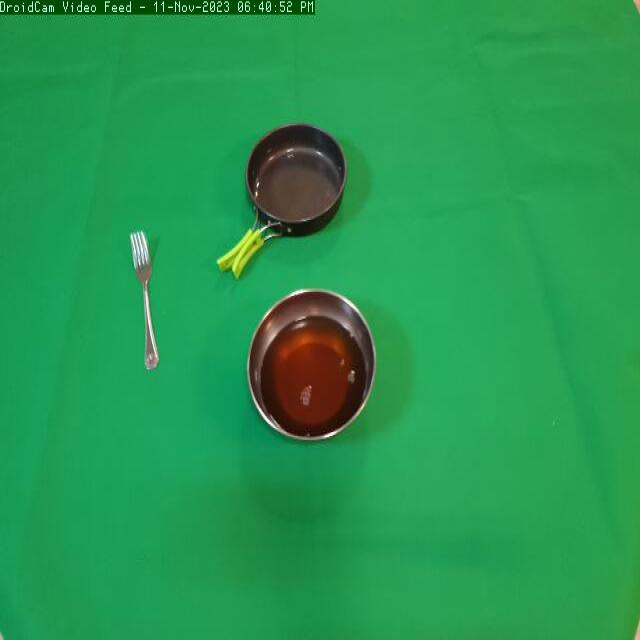fork: (125, 220, 174, 381)
fullbowl: (240, 282, 383, 450)
pan: (214, 120, 352, 286)
